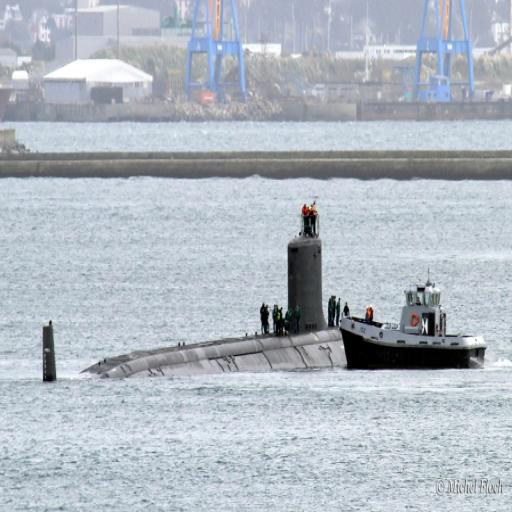submarine: (42, 237, 359, 390)
